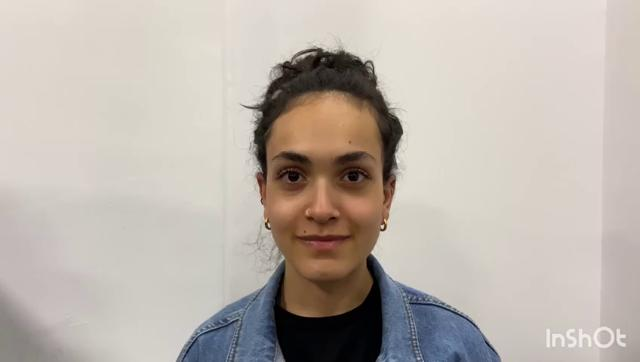senang: (256, 92, 394, 279)
